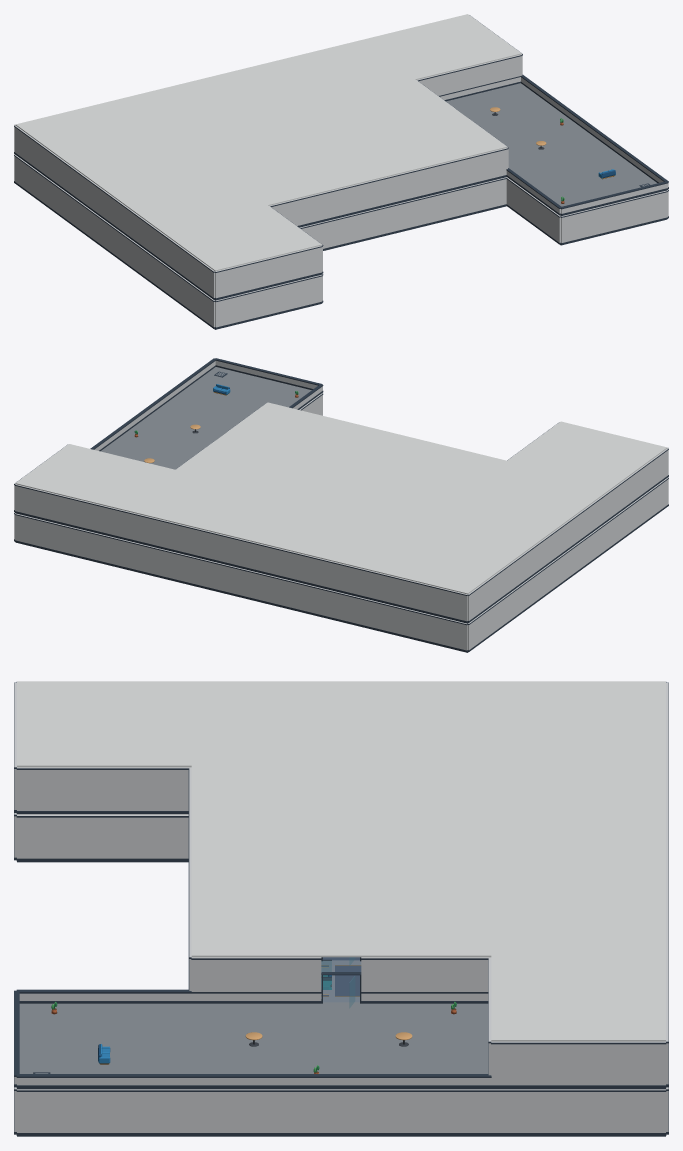
Rendered from timbas-office-building.glb.
3 views of the same model, one above another, from view 1: azimuth 30°, elevation 25°; view 2: azimuth 150°, elevation 25°; view 3: azimuth 270°, elevation 25° (orthographic). The views are drawn at different scales.
Parts seen in each view (by area): view 1: Ceiling · seamless acoustic white, Wall · warm architectural plaster, Floor · industrial concrete, Structure · graphite; view 2: Ceiling · seamless acoustic white, Wall · warm architectural plaster, Floor · industrial concrete, Structure · graphite; view 3: Ceiling · seamless acoustic white, Wall · warm architectural plaster, Floor · industrial concrete, Structure · graphite, Floor · graphite blue carpet.
Part boxes in pixels (<box>): Ceiling · seamless acoustic white: <box>15,14,560,271</box>; Wall · warm architectural plaster: <box>14,15,668,327</box>; Floor · industrial concrete: <box>446,83,657,206</box>; Structure · graphite: <box>14,15,668,329</box>; Ceiling · seamless acoustic white: <box>15,402,667,594</box>; Wall · warm architectural plaster: <box>14,360,668,650</box>; Floor · industrial concrete: <box>100,367,311,469</box>; Structure · graphite: <box>14,358,668,652</box>; Ceiling · seamless acoustic white: <box>17,681,665,1041</box>; Wall · warm architectural plaster: <box>14,683,668,1132</box>; Floor · industrial concrete: <box>19,1002,488,1073</box>; Structure · graphite: <box>14,682,668,1136</box>; Floor · graphite blue carpet: <box>321,957,361,996</box>.
Size of the model in its own units: 68.46 by 8.54 by 52.46.
